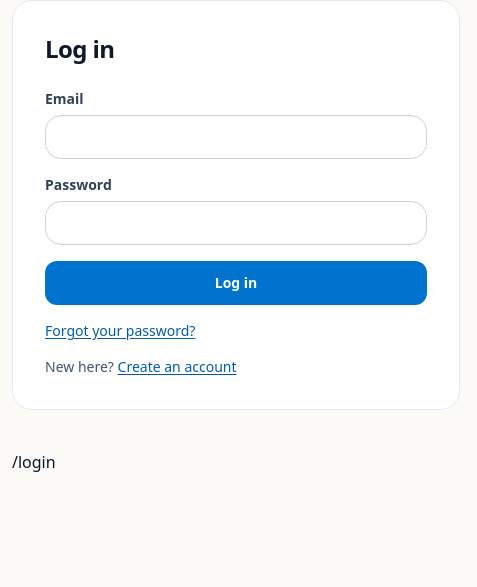
Test: /login: invalid_credentials gains a second sentence (AC-49) › keeps the first sentence and adds "Just created an account? Confirm your email address first — check your inbox."
Type "alex.marker@example.com" into the field labelled "Email" at {"x": 236, "y": 137}, box [45,115,427,159]
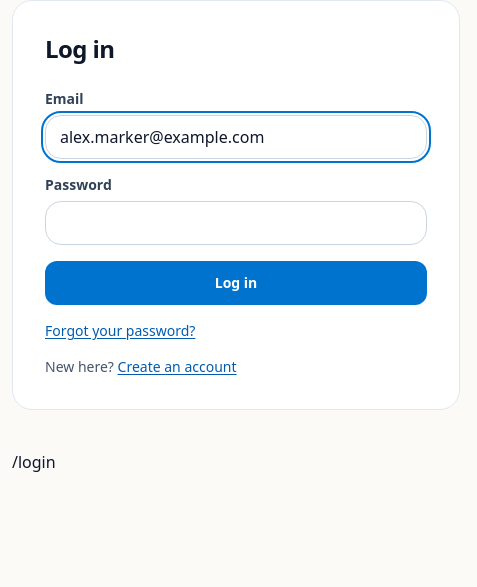
Type "a very long real password" into the password field labelled "Password" at {"x": 236, "y": 223}, box [45,201,427,245]
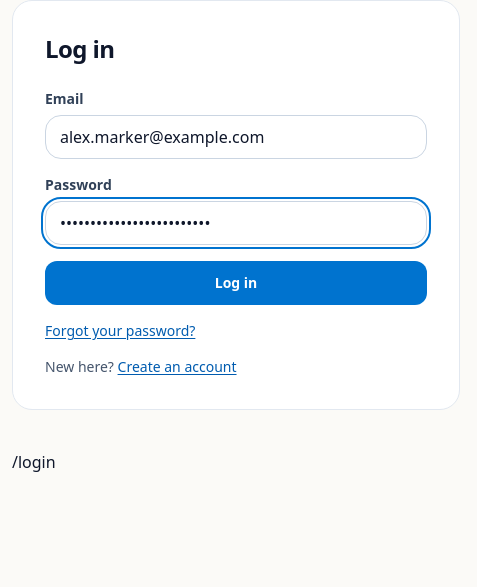
Click the button "Log in" at {"x": 236, "y": 283}, box [45,261,427,305]
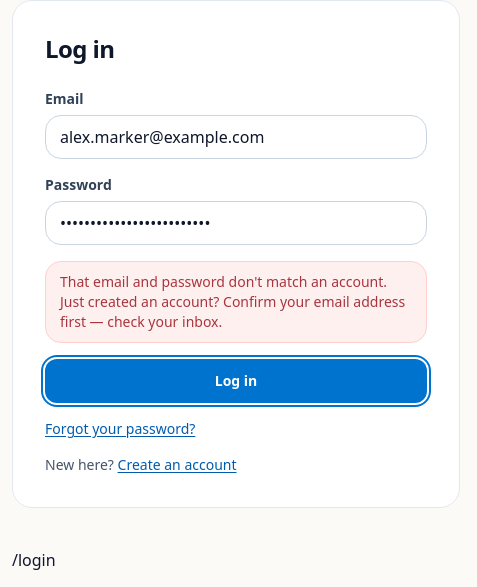
expect the message shows "That email and password don't match an account.": met, box [60,272,387,291]
expect the message shows "Just created an account? Confirm your email address first — check your inbox.": met, box [60,292,405,331]
